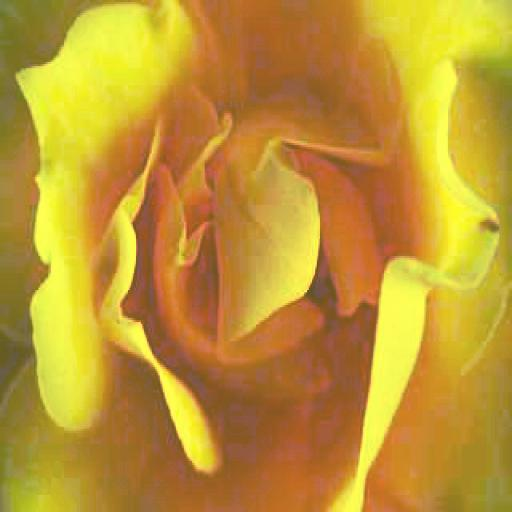rose: (6, 0, 510, 507)
